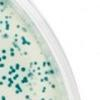Blue_green: (14, 84, 22, 93), (0, 92, 7, 100), (22, 52, 30, 58), (23, 94, 30, 100), (15, 64, 20, 72), (22, 79, 29, 84), (12, 41, 17, 47), (10, 47, 15, 53), (21, 67, 26, 73), (27, 72, 32, 78), (26, 41, 31, 46), (10, 52, 15, 57), (0, 63, 5, 68), (41, 89, 46, 94), (49, 70, 54, 75), (0, 76, 5, 81), (20, 80, 25, 85), (15, 46, 20, 51), (6, 24, 10, 30), (20, 36, 26, 40), (22, 40, 26, 46), (0, 80, 4, 86), (52, 83, 56, 89), (47, 61, 51, 67), (0, 1, 4, 6), (4, 33, 8, 38), (1, 49, 6, 53), (2, 55, 6, 60), (44, 77, 48, 82), (45, 71, 49, 76), (37, 72, 42, 76), (34, 61, 38, 66), (7, 72, 12, 76), (11, 68, 15, 73), (12, 77, 17, 81), (22, 76, 27, 80), (39, 97, 45, 100), (43, 61, 46, 67), (0, 21, 4, 25), (5, 20, 9, 24), (42, 86, 46, 90), (7, 84, 11, 88), (10, 80, 14, 84), (15, 74, 19, 78), (8, 78, 12, 82), (15, 38, 18, 42), (37, 66, 40, 70), (10, 65, 13, 69), (15, 91, 19, 94), (0, 57, 2, 62), (15, 34, 18, 37), (41, 79, 44, 82)
